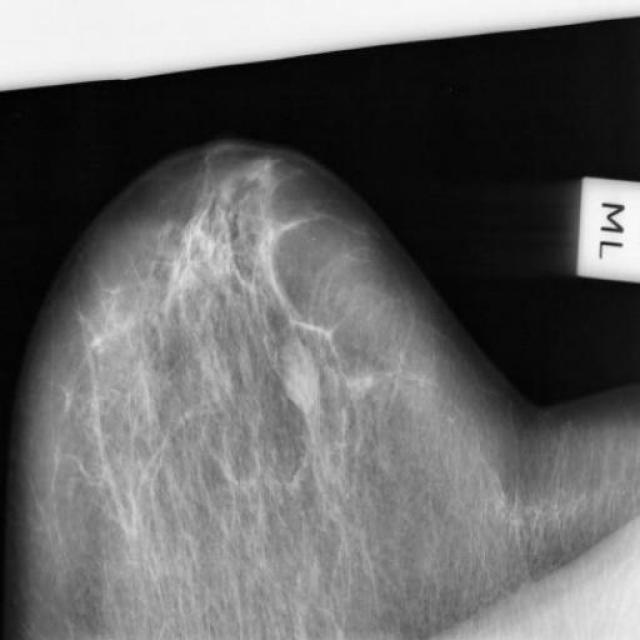cancer: (226, 202, 302, 298)
